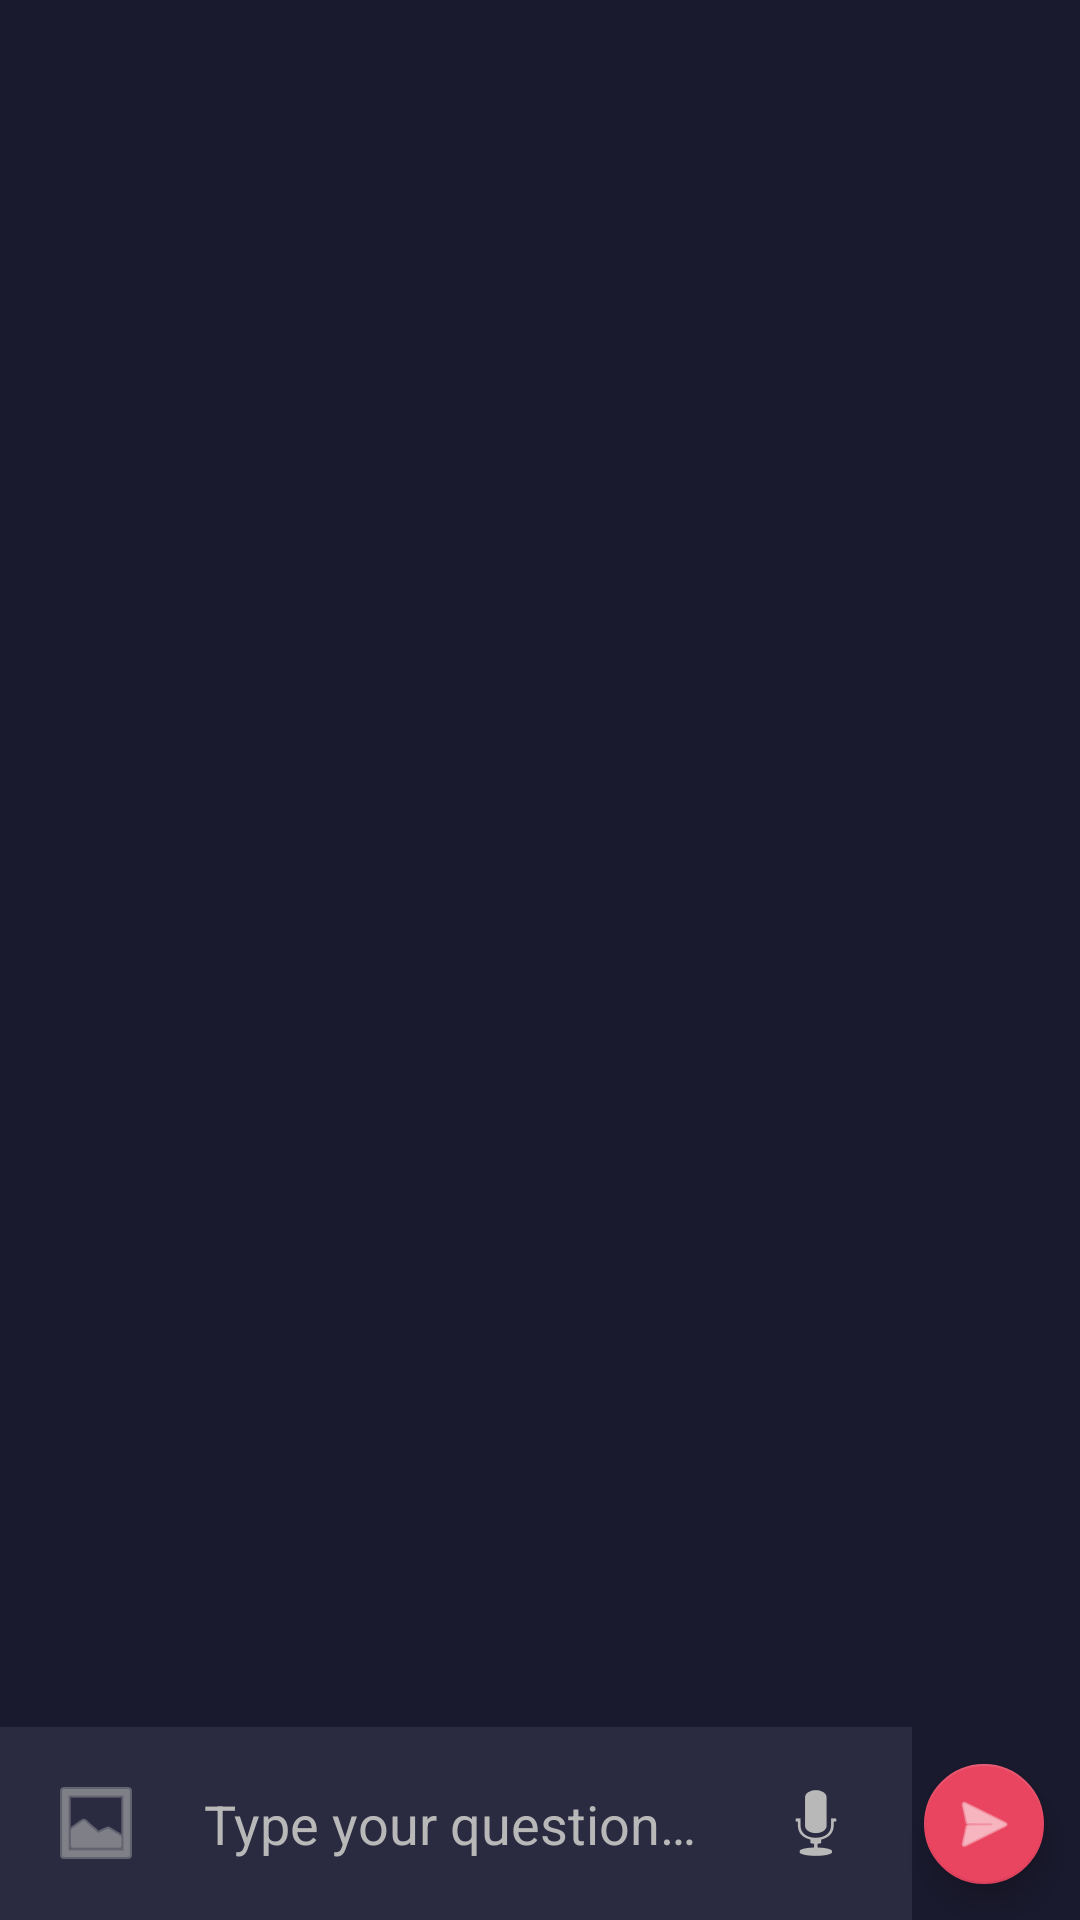

Icons on this 1080px x 1920px Android screen, each with its box as (x1, y1, x2, y2):
gallery: (60, 1787, 132, 1859)
send: (924, 1764, 1044, 1884)
speak now: (795, 1790, 837, 1856)
